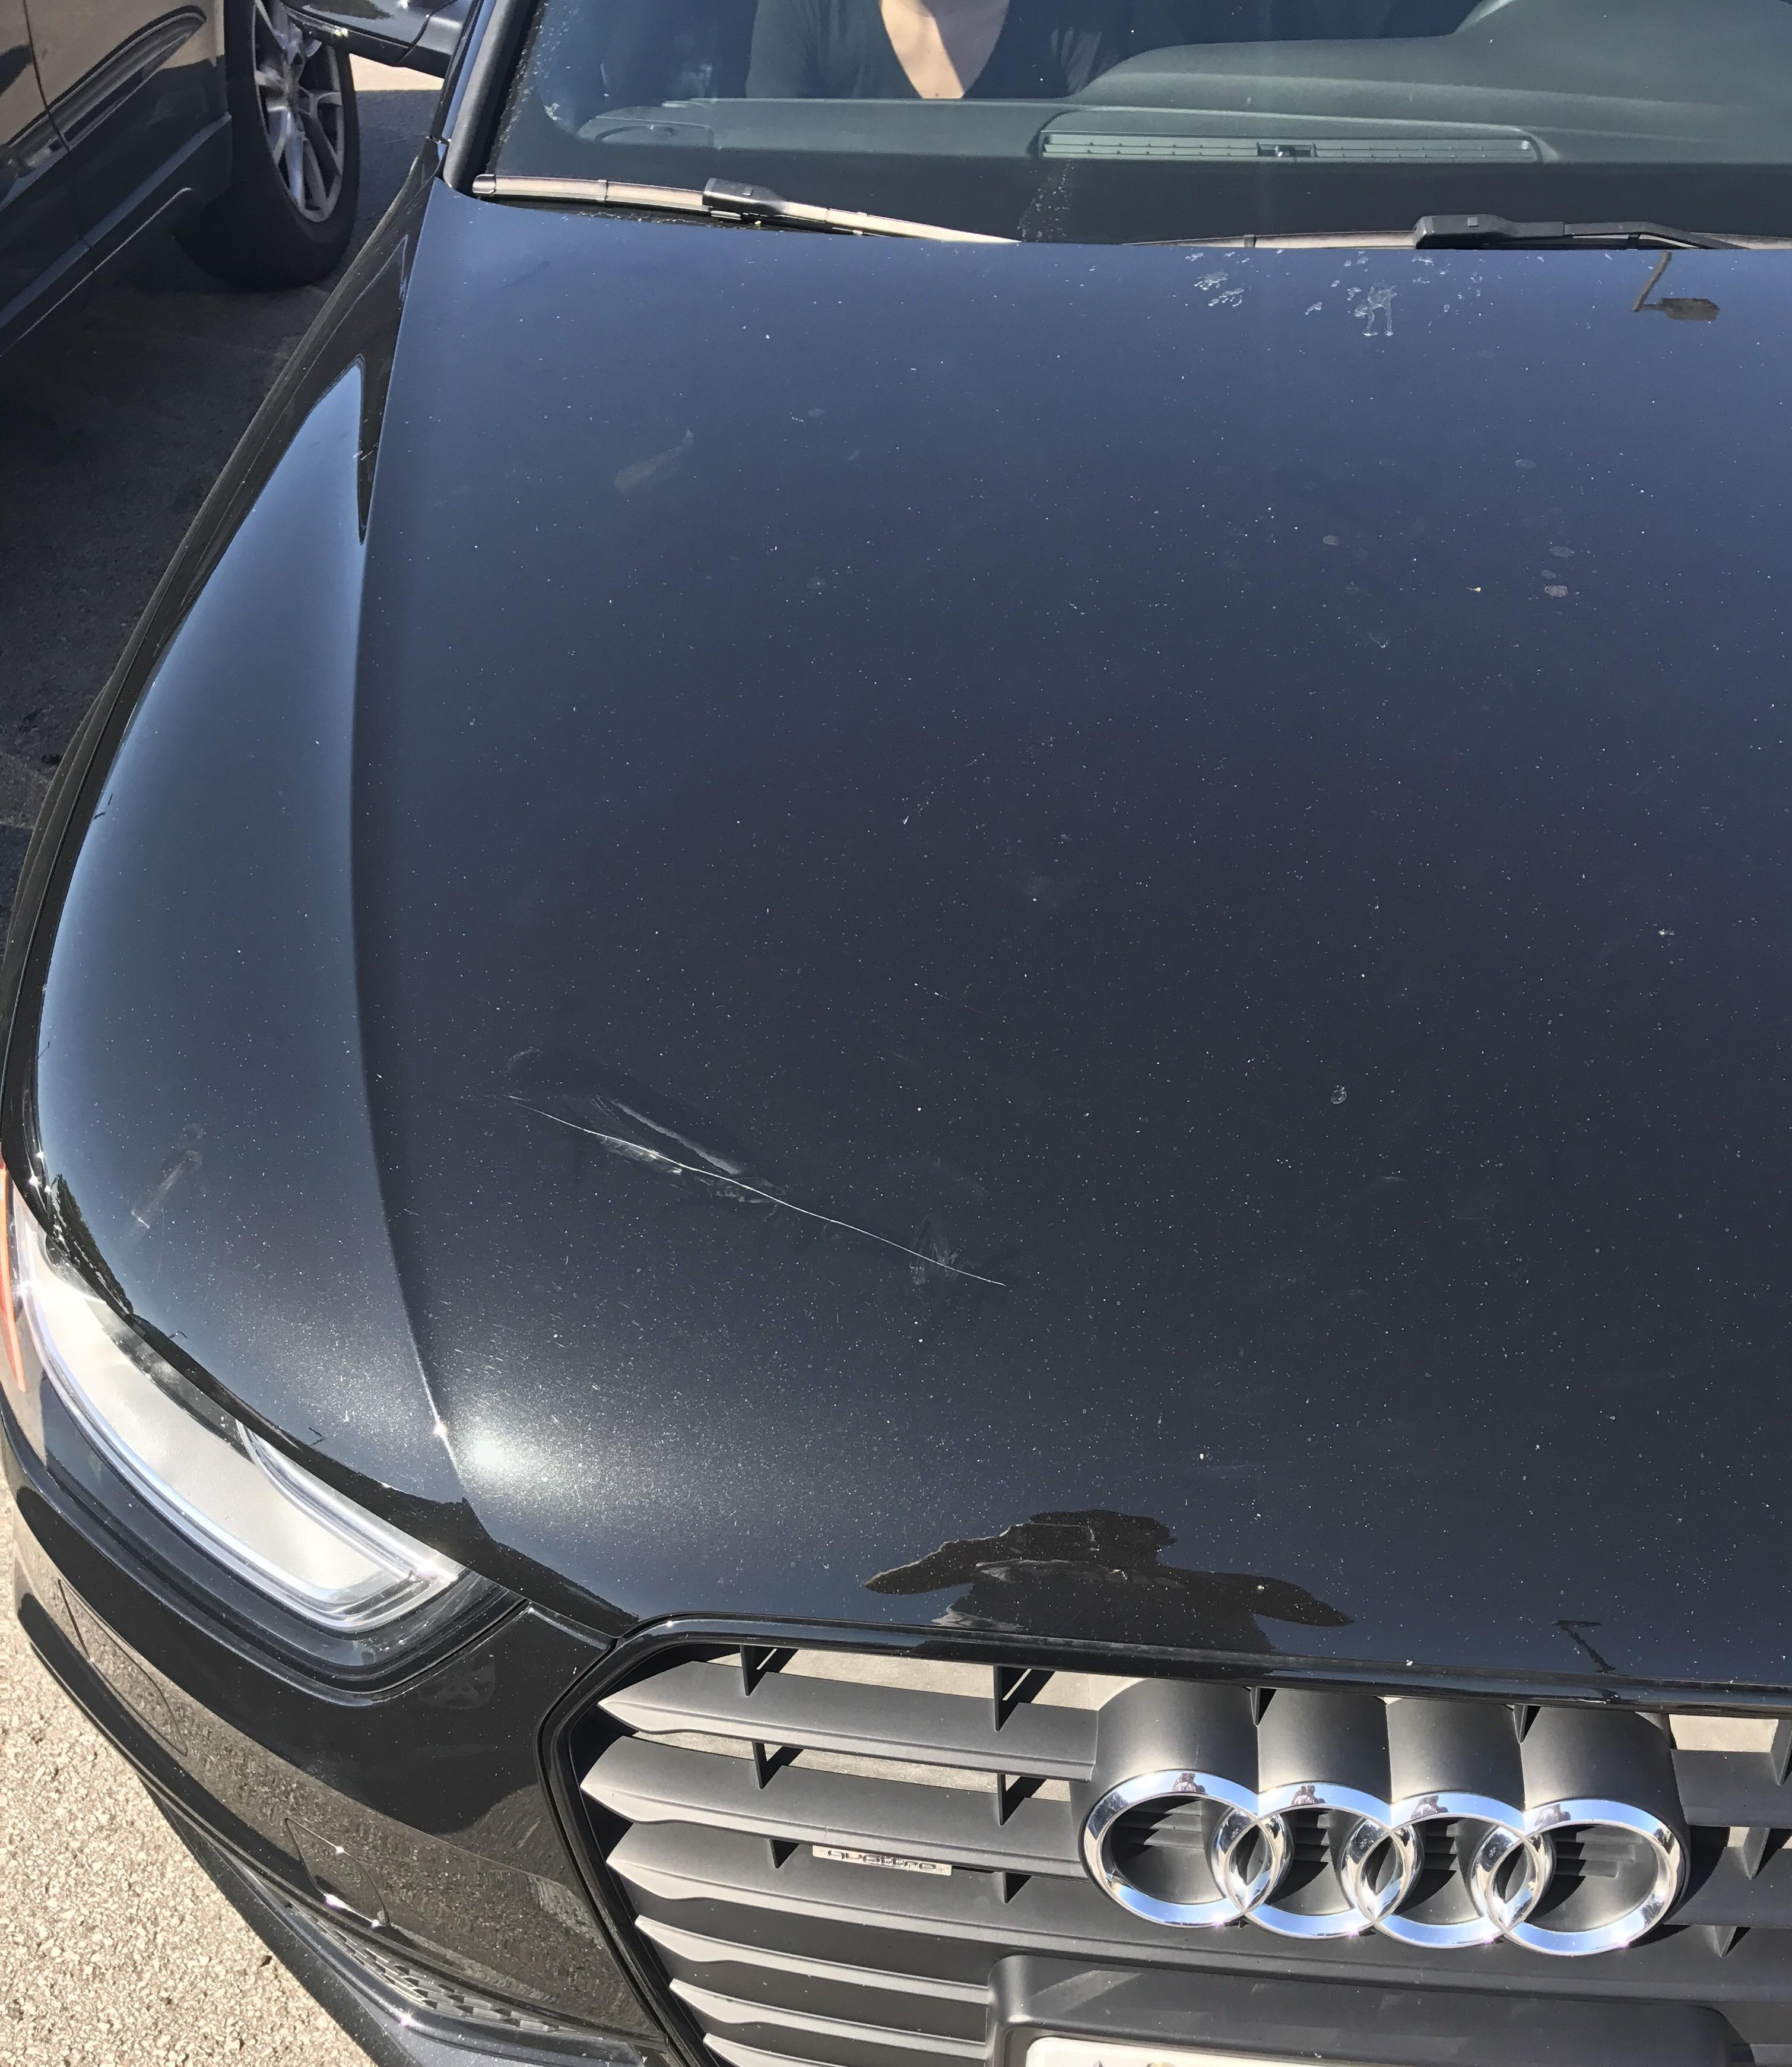bonnet-dent: (191, 269, 1792, 1795)
